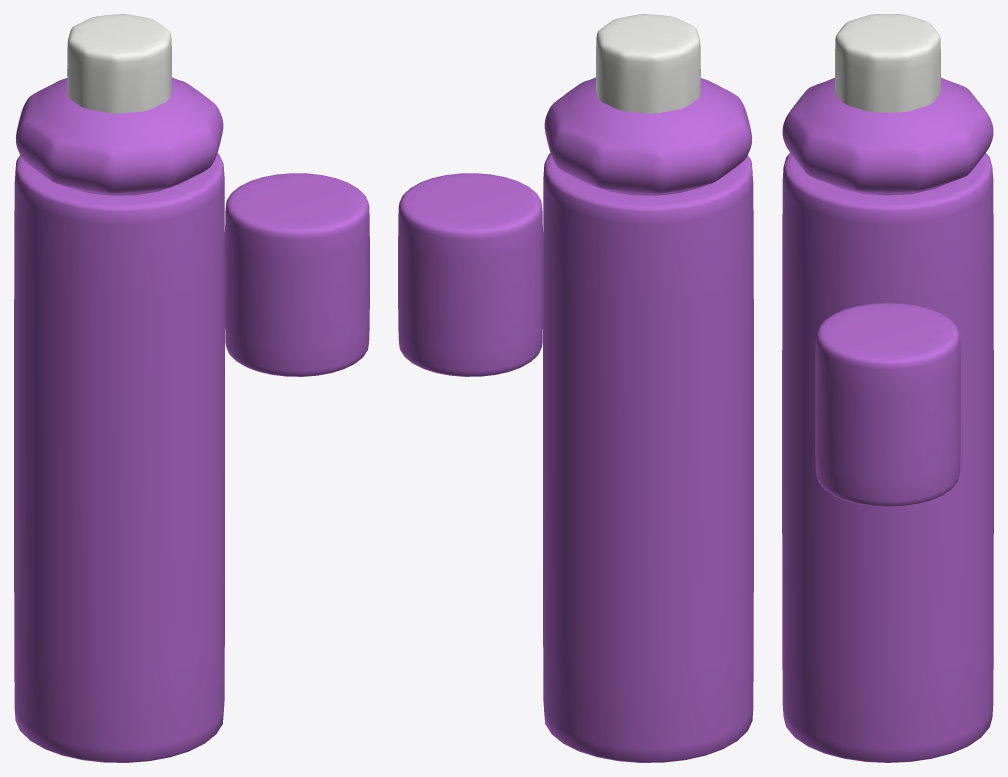
File: glue_stick.glb
3 renders of one model, left to right at view 1: azimuth 30°, elevation 25°; view 2: azimuth 150°, elevation 25°; view 3: azimuth 270°, elevation 25°, orthographic.
Visible parts, largest first — view 1: glue_stick; view 2: glue_stick; view 3: glue_stick.
Boxes of the visible parts, box(x1,y1,x2,y2) form: glue_stick: box(14, 14, 369, 762); glue_stick: box(398, 14, 753, 762); glue_stick: box(782, 14, 993, 762).
Size of the model in its own units: 0.2805 by 0.5549 by 0.1546.
